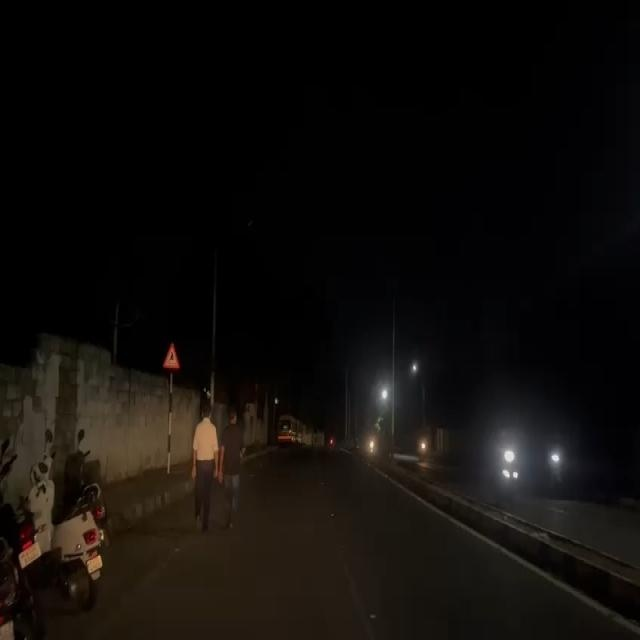bien_nguy_hiem: (162, 340, 180, 370)
